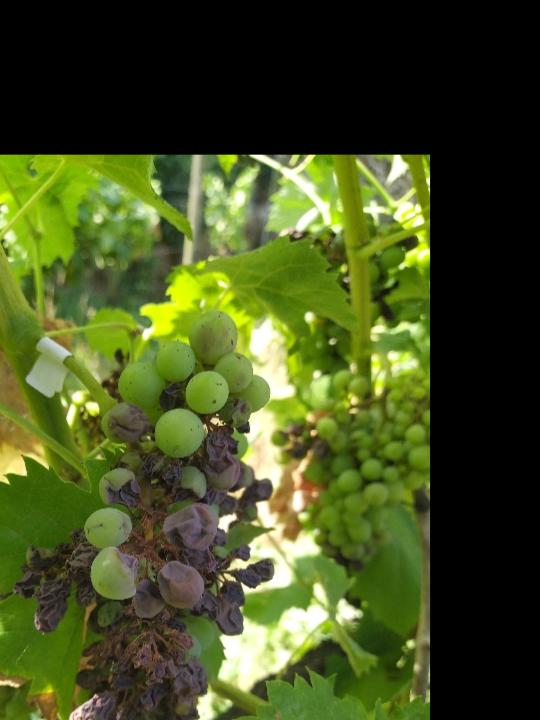grape: (10, 309, 280, 720)
